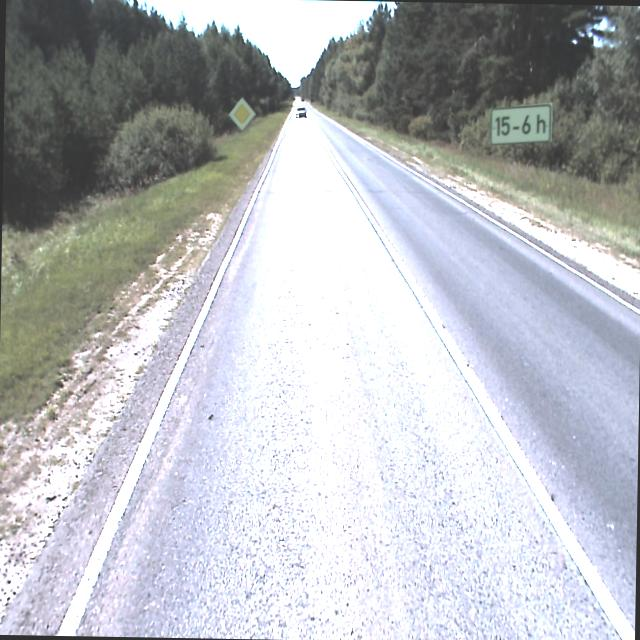road: (0, 98, 640, 640)
